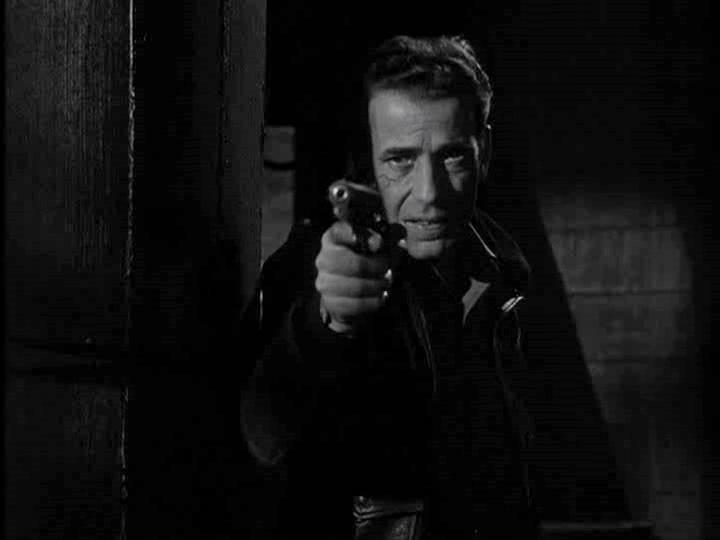gun: (287, 156, 405, 287)
